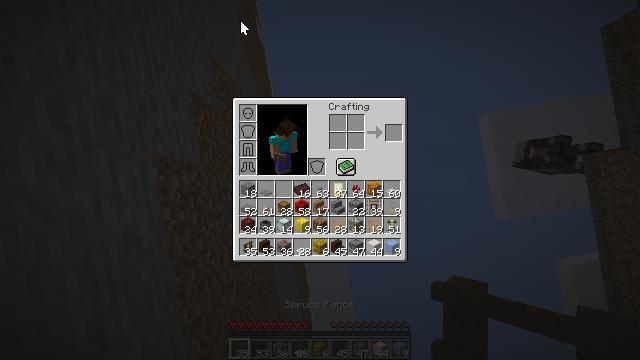cursor: (20, 240, 36, 250)
